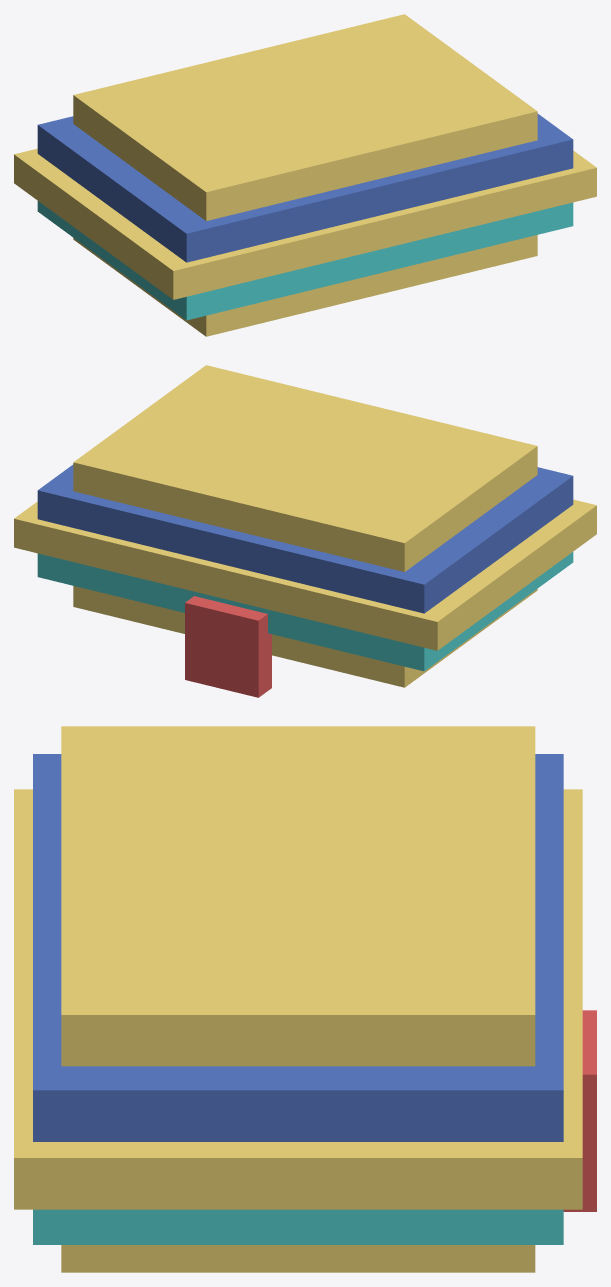
File: colar_egipcio.glb
3 views of the same model, one above another, from view 1: azimuth 30°, elevation 25°; view 2: azimuth 150°, elevation 25°; view 3: azimuth 270°, elevation 25° (orthographic). The views are drawn at different scales.
Parts seen in each view (by area): view 1: colar_egipcio; view 2: colar_egipcio; view 3: colar_egipcio.
Boxes of the visible parts, x1=… form: colar_egipcio: x1=14, y1=14, x2=596, y2=336; colar_egipcio: x1=14, y1=365, x2=596, y2=697; colar_egipcio: x1=14, y1=726, x2=596, y2=1272.
Bounding box in the file's own units: 0.92 × 0.36 × 0.615.
